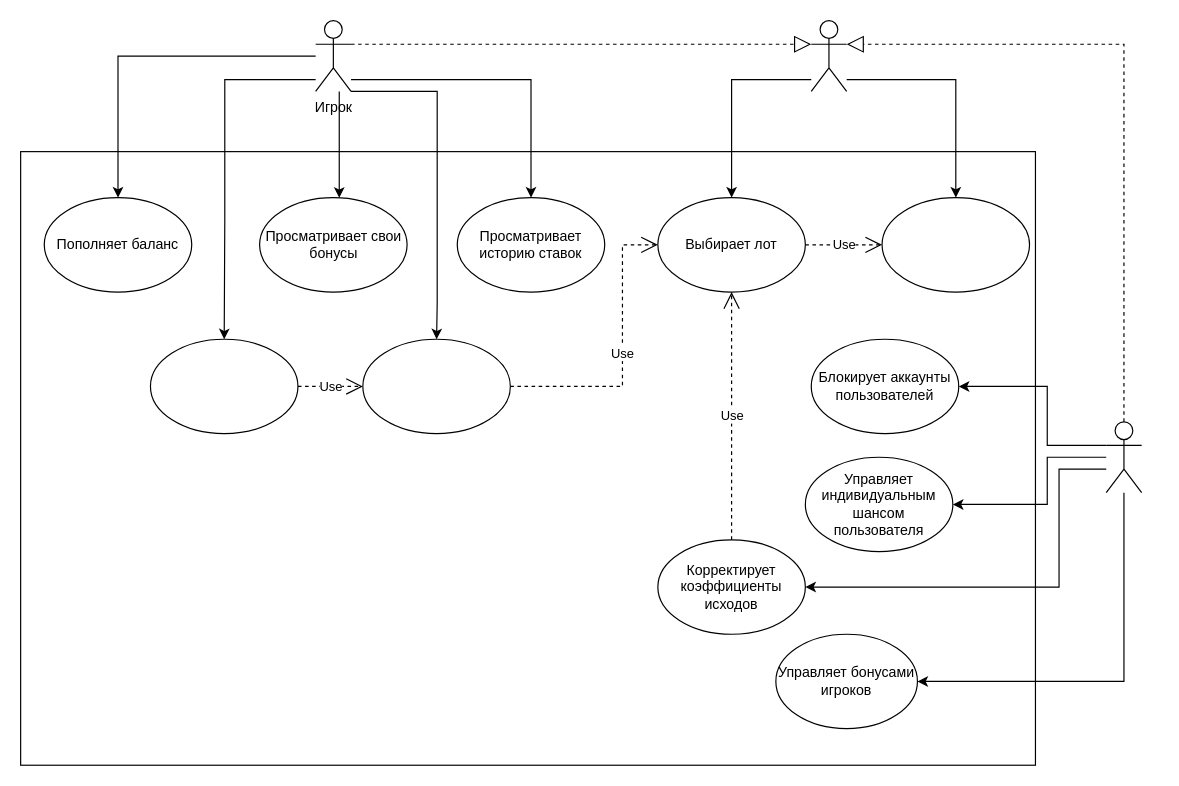
Some shapes in this 1179 by 786 pixel diagram are drawn without their labels. The shapes that lost their labels are listed below. From the top down, each one's centre as x and y in pixels, then its label:
At (x=828, y=55): "Пользователь".
At (x=955, y=244): "Просматривает лоты игр".
At (x=223, y=386): "Делает ставку в лоте".
At (x=436, y=386): "Выбирает исход".
At (x=1123, y=457): "Менеджер".
